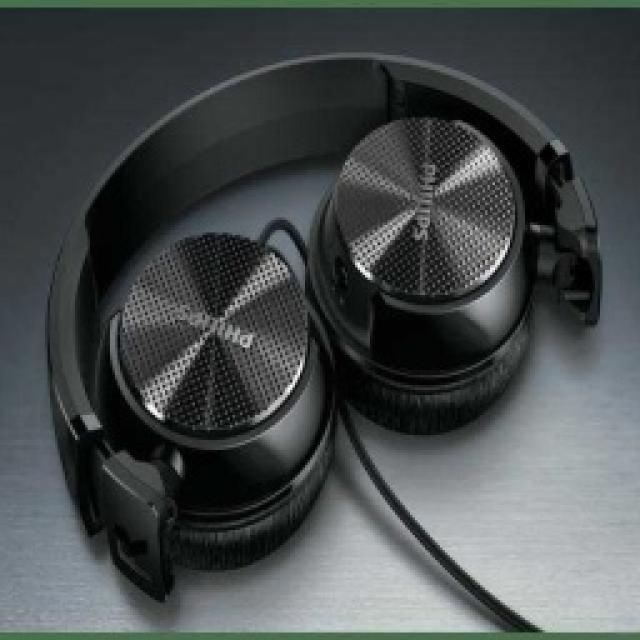headphones: (42, 50, 602, 600)
